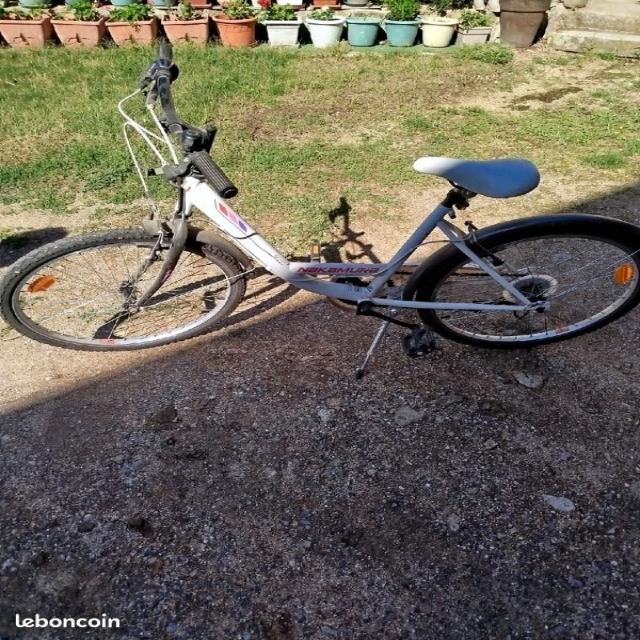Bike: (0, 39, 639, 374)
